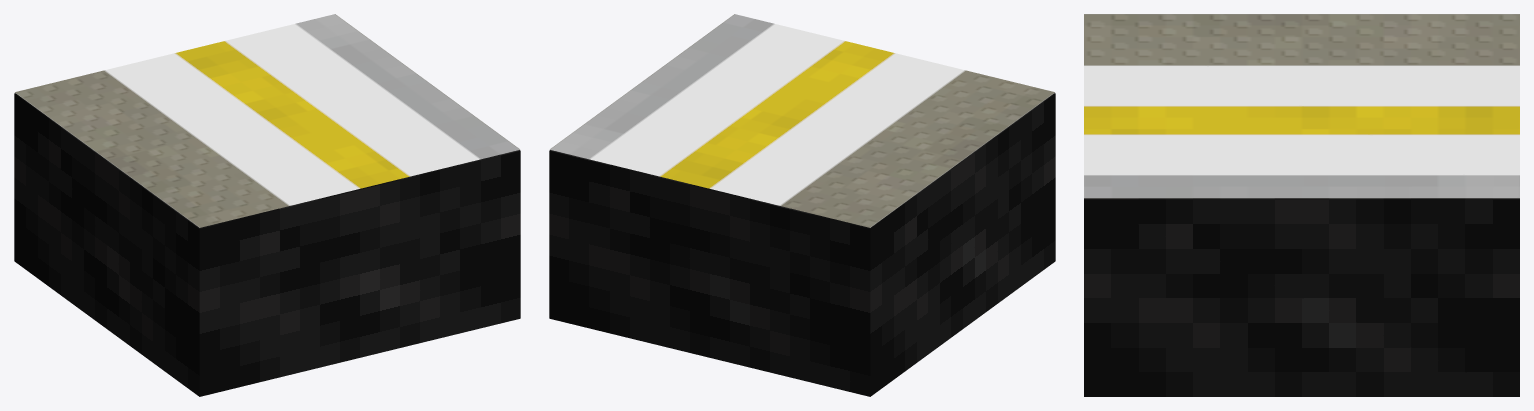
Rendered from uk_1_slab_bottom_flipped.obj.
3 views of the same model, side by side, from view 1: azimuth 30°, elevation 25°; view 2: azimuth 150°, elevation 25°; view 3: azimuth 270°, elevation 25° (orthographic). The views are drawn at different scales.
Parts seen in each view (by area): view 1: cube, cube.001; view 2: cube, cube.001; view 3: cube, cube.001.
Part boxes in pixels (<box>): cube: <box>14,93,520,396</box>; cube.001: <box>15,14,519,227</box>; cube: <box>549,93,1055,396</box>; cube.001: <box>550,14,1054,227</box>; cube: <box>1084,198,1519,396</box>; cube.001: <box>1084,14,1519,198</box>.
Bounding box in the file's own units: 1 × 0.5031 × 1.
Materials: 2 (2 with a texture image).
